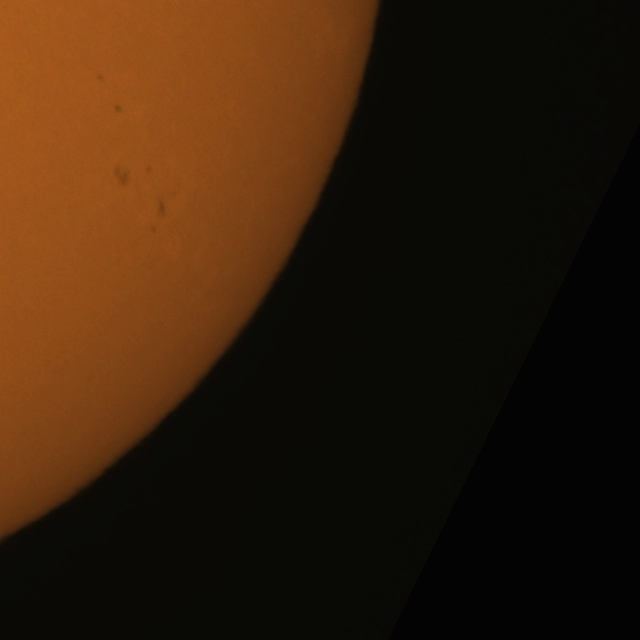sunspot: (113, 164, 132, 189), (95, 72, 105, 83), (113, 104, 123, 115)
